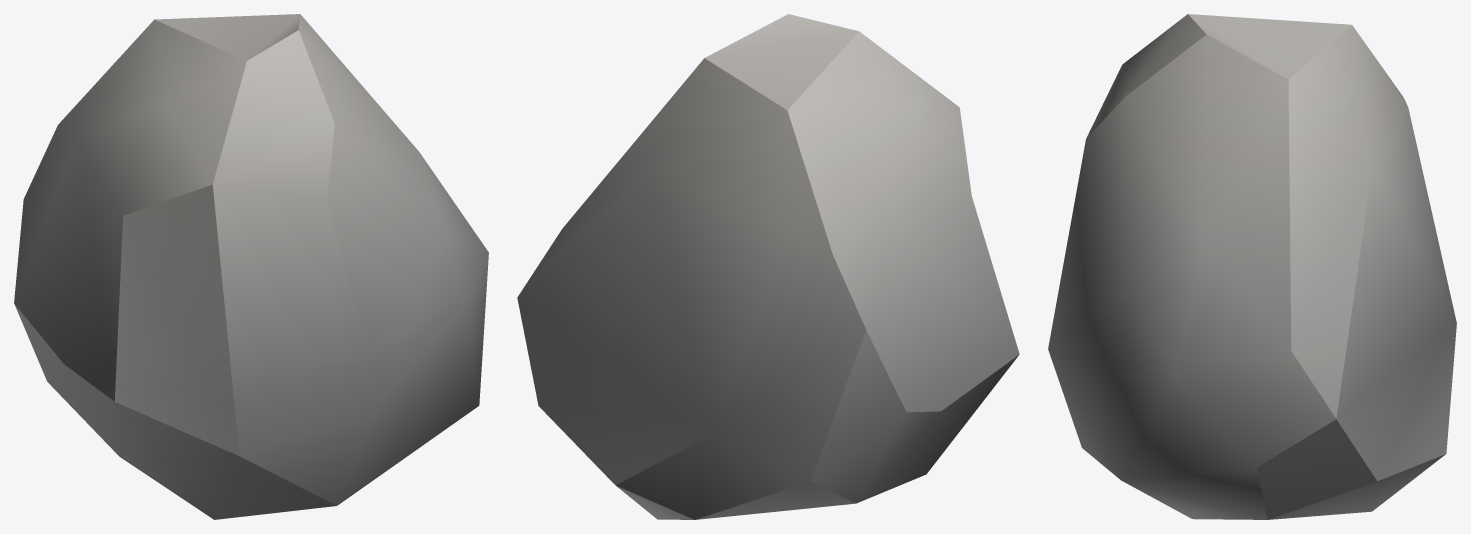
The model's file is IronNugget1.fbx.
The picture shows the model from 3 angles, left to right: view 1: azimuth 30°, elevation 25°; view 2: azimuth 150°, elevation 25°; view 3: azimuth 270°, elevation 25°; orthographic projection.
Visible parts, largest first — view 1: IronNugget1_LOD0; view 2: IronNugget1_LOD0; view 3: IronNugget1_LOD0.
Part boxes in pixels (x1,y1,x2,y2): IronNugget1_LOD0: (14, 14, 488, 519); IronNugget1_LOD0: (517, 14, 1019, 519); IronNugget1_LOD0: (1048, 14, 1456, 519).
Size of what is drawn, in the model's own units: 0.7594 by 0.8114 by 0.6529.
